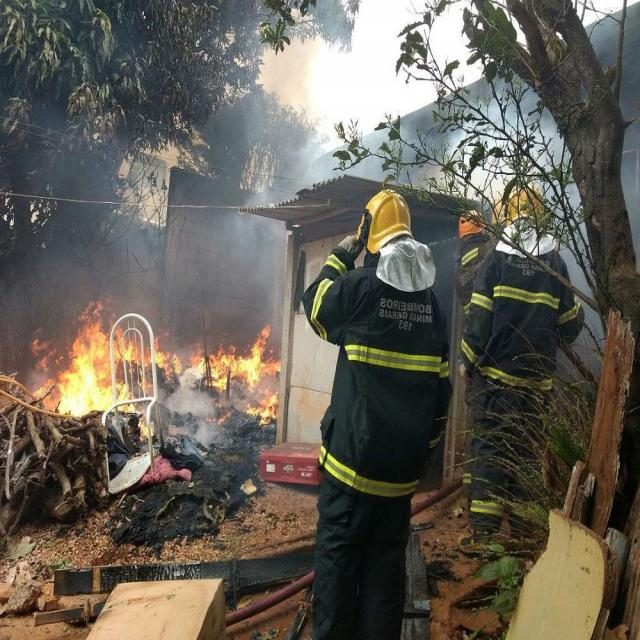fire: (42, 303, 120, 416)
